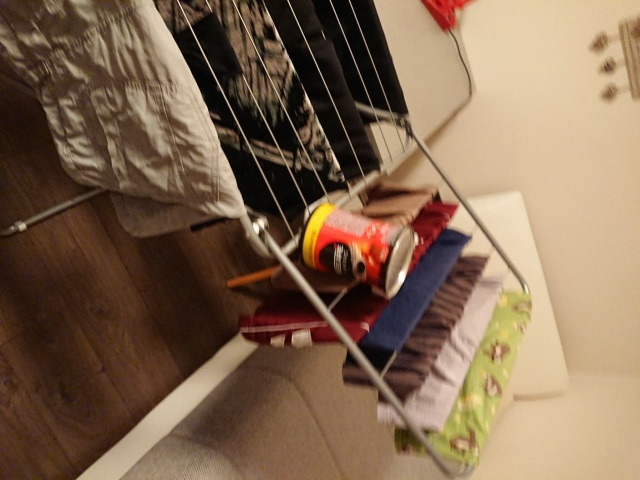Nescafe Classic 225g: (296, 200, 417, 303)
